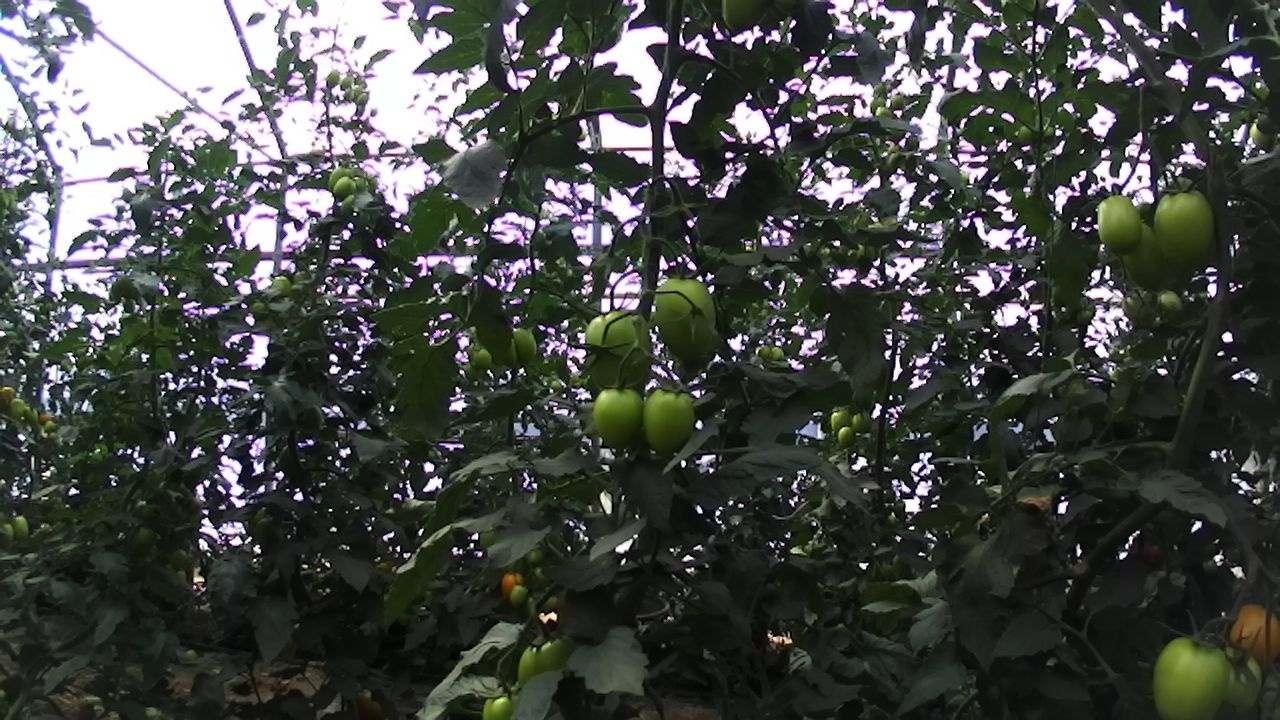tomato: (1136, 622, 1244, 720), (638, 263, 732, 375), (571, 295, 662, 406), (1146, 173, 1227, 278), (510, 630, 583, 720), (1202, 636, 1280, 720), (631, 380, 707, 464), (1214, 590, 1280, 677), (582, 379, 654, 454), (1113, 215, 1177, 298), (1091, 188, 1152, 256), (505, 322, 547, 371), (1117, 290, 1162, 331), (460, 336, 504, 377), (126, 522, 162, 560), (1152, 284, 1189, 319), (496, 567, 529, 600), (266, 270, 298, 304), (825, 404, 859, 436), (502, 581, 533, 612), (845, 407, 876, 438), (7, 510, 36, 543), (4, 392, 33, 425), (523, 563, 553, 592), (833, 421, 861, 452), (328, 173, 357, 200), (323, 163, 349, 193), (336, 190, 363, 217), (0, 381, 19, 419), (1013, 119, 1037, 149), (865, 92, 891, 117), (523, 545, 548, 571), (1072, 302, 1096, 329), (870, 101, 895, 126), (348, 172, 372, 198), (21, 403, 44, 429), (767, 341, 789, 365), (754, 339, 775, 364), (888, 91, 910, 113), (323, 67, 341, 93), (41, 417, 60, 436), (337, 72, 355, 92), (340, 87, 357, 103), (353, 92, 368, 107)
